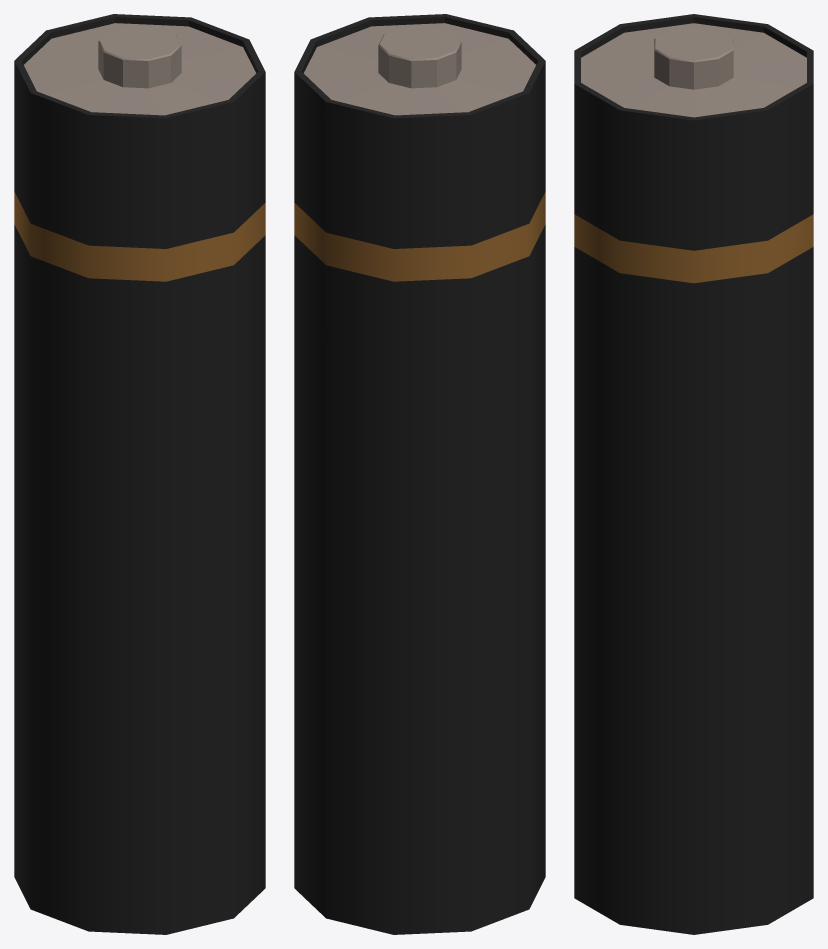
File: AA_Battery.fbx
The picture shows the model from 3 angles, left to right: view 1: azimuth 30°, elevation 25°; view 2: azimuth 150°, elevation 25°; view 3: azimuth 270°, elevation 25°; orthographic projection.
Parts seen in each view (by area): view 1: pCylinder1; view 2: pCylinder1; view 3: pCylinder1.
Part boxes in pixels (x1=…): pCylinder1: x1=14, y1=14, x2=265, y2=934; pCylinder1: x1=294, y1=14, x2=545, y2=934; pCylinder1: x1=574, y1=14, x2=813, y2=934.
Bounding box in the file's own units: 5.67 × 20.83 × 5.4.
